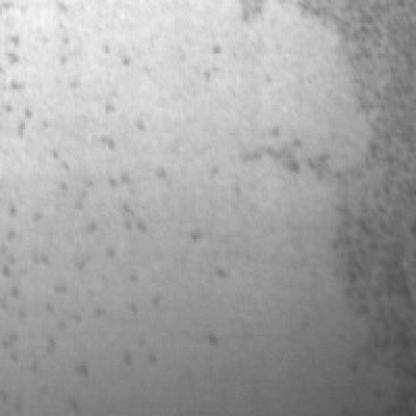pitted_surface: (4, 0, 171, 404), (277, 4, 414, 368)
